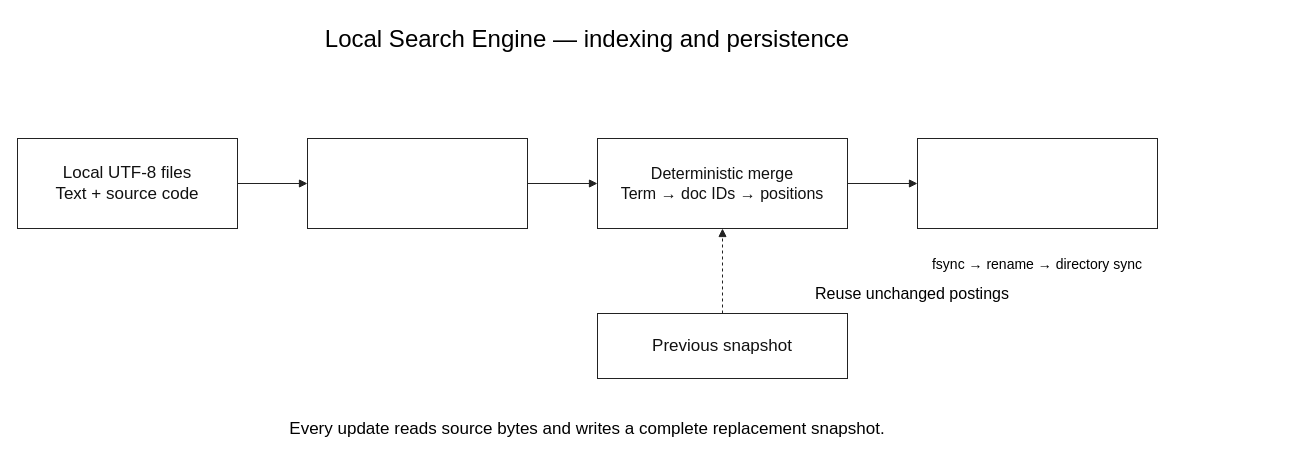
The diagram is 1305 pixels wide and 455 high, and some of its shapes have lost their labels. Here are the shapes that lost their labels. From the top down, the box of each, then its label:
(306, 138, 528, 228): Read + tokenize Bounded worker pool
(916, 138, 1158, 228): Snapshot (.lsi) Delta / varint + CRC32
